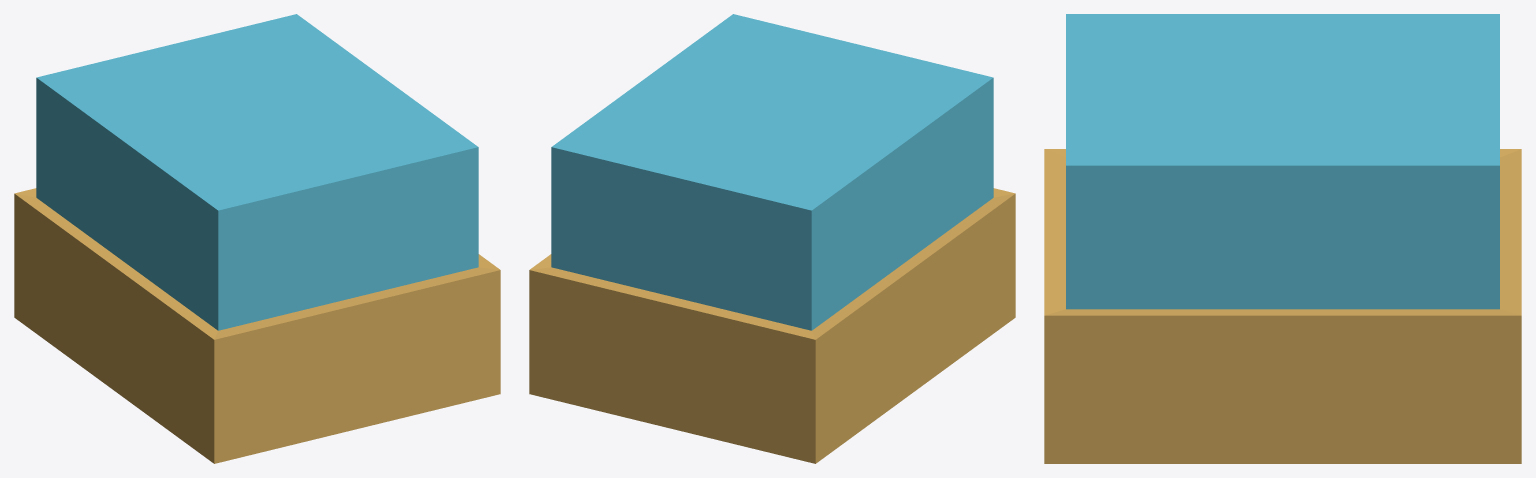
Rendered from LargeTH_Bottom.fbx.
3 renders of one model, left to right at view 1: azimuth 30°, elevation 25°; view 2: azimuth 150°, elevation 25°; view 3: azimuth 270°, elevation 25°, orthographic. The views are drawn at different scales.
Visible parts, largest first — view 1: LargeTH_Bottom; view 2: LargeTH_Bottom; view 3: LargeTH_Bottom.
Part boxes in pixels (bbox=[...]): LargeTH_Bottom: bbox=[14, 14, 500, 463]; LargeTH_Bottom: bbox=[529, 14, 1015, 463]; LargeTH_Bottom: bbox=[1044, 14, 1521, 463].
Size of the model in its own units: 4.4 by 3.58 by 5.32.
